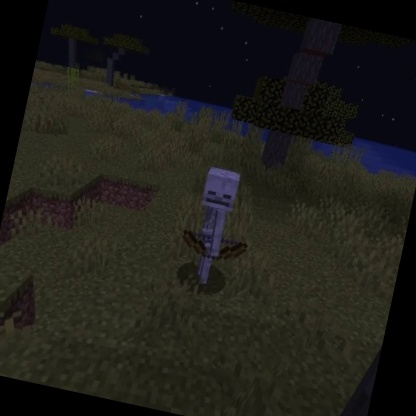skeleton: (169, 159, 266, 296)
